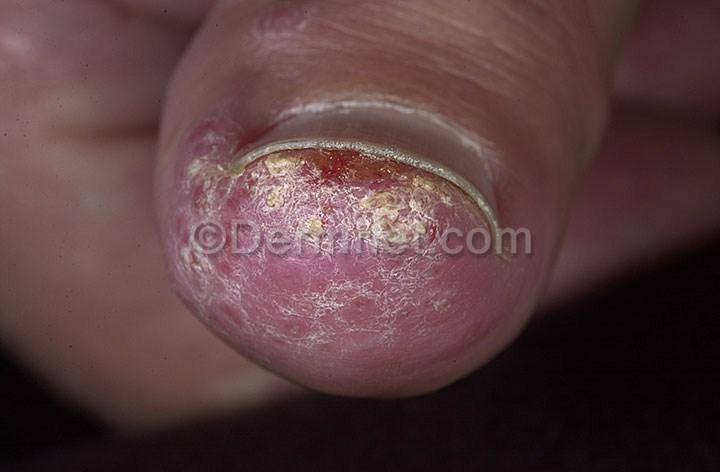Eczema: (173, 129, 489, 368)
